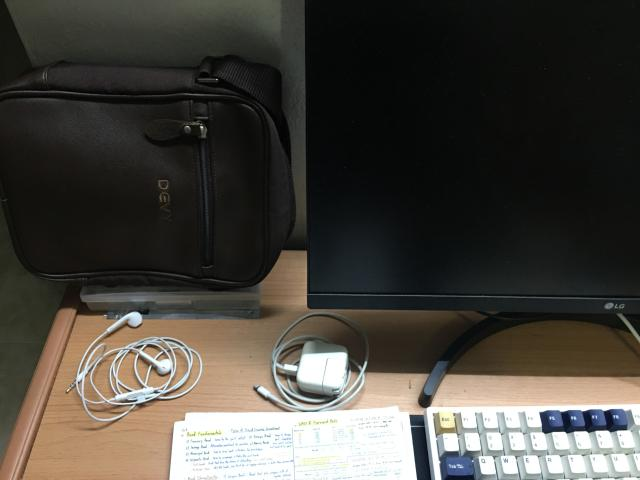paper: (170, 406, 415, 479)
wire: (66, 309, 202, 422), (256, 312, 369, 411)
